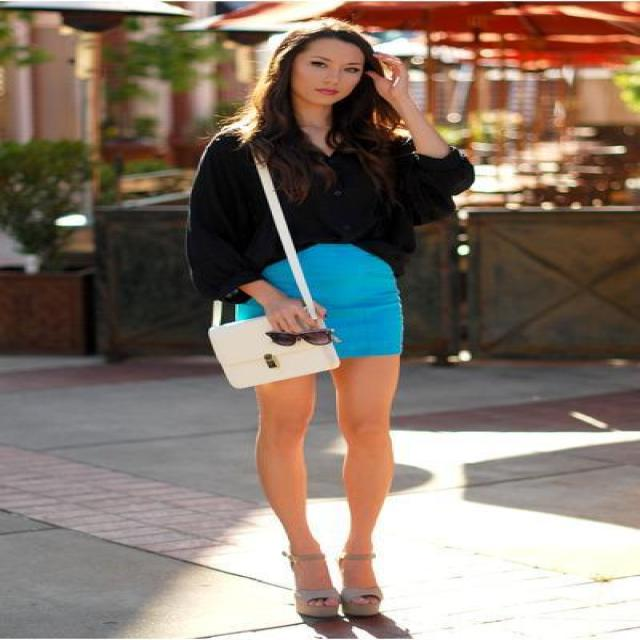bag: (211, 166, 338, 388)
shirt: (188, 141, 474, 307)
shoe: (288, 545, 389, 638)
skirt: (212, 245, 402, 358)
